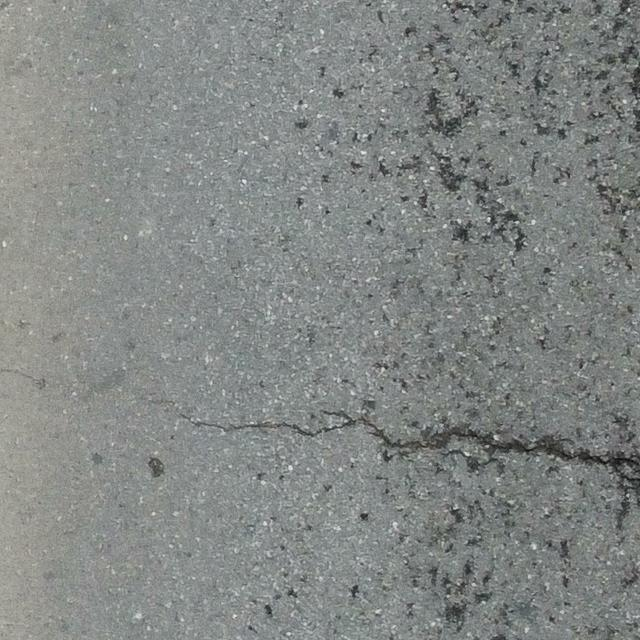TransverseCrack: (173, 407, 640, 482)
